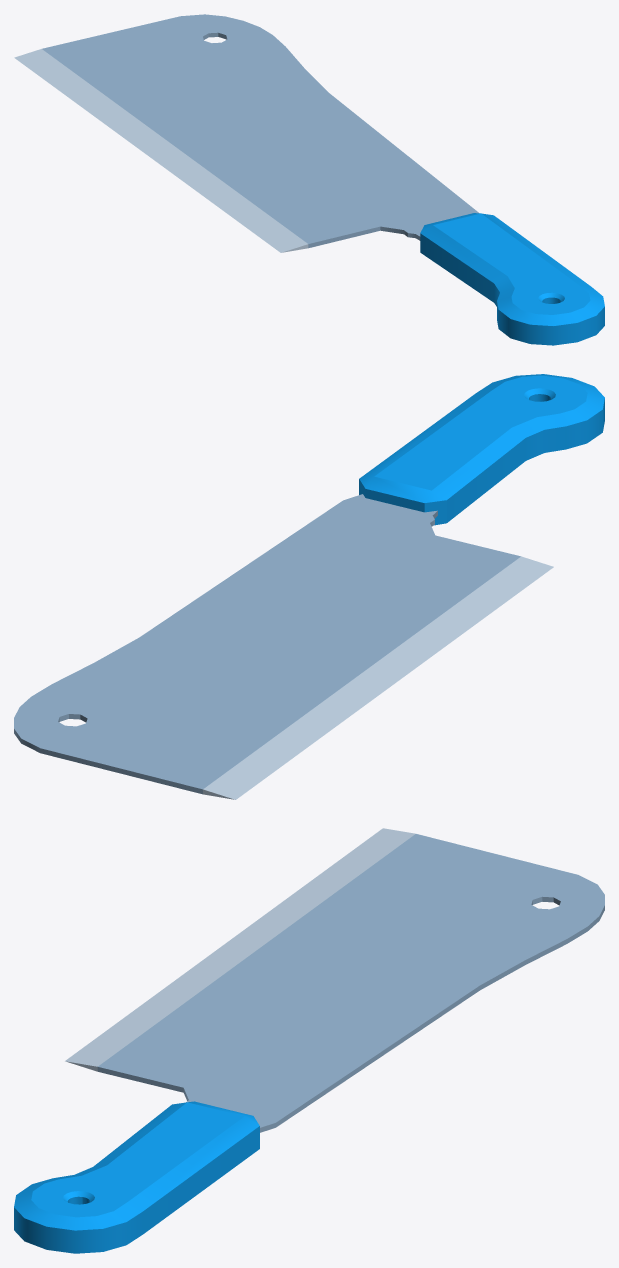
The model's file is ButcherKnife.fbx.
3 views of the same model, one above another, from view 1: azimuth 30°, elevation 25°; view 2: azimuth 150°, elevation 25°; view 3: azimuth 330°, elevation 25° (orthographic). The views are drawn at different scales.
Parts seen in each view (by area): view 1: ButcherKnife; view 2: ButcherKnife; view 3: ButcherKnife.
Part boxes in pixels (x1,y1,x2,y2): ButcherKnife: (14,14,604,345); ButcherKnife: (14,374,604,799); ButcherKnife: (14,828,604,1253).
Bounding box in the file's own units: 0.932 × 0.1223 × 3.17.
